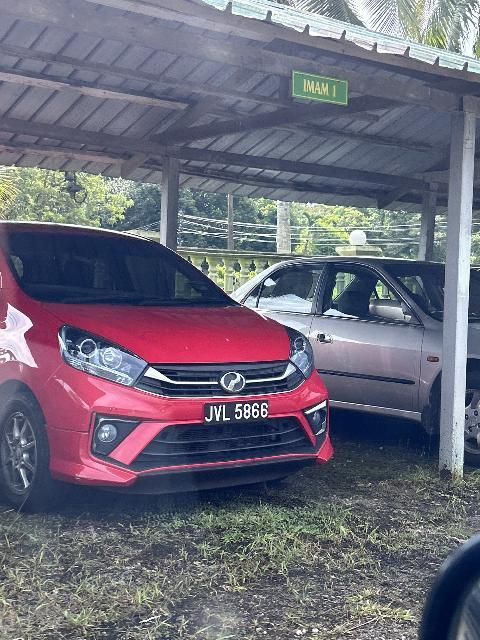JVL5866: (202, 399, 272, 432)
License_Plate: (202, 399, 272, 432)
car: (1, 217, 347, 520)
